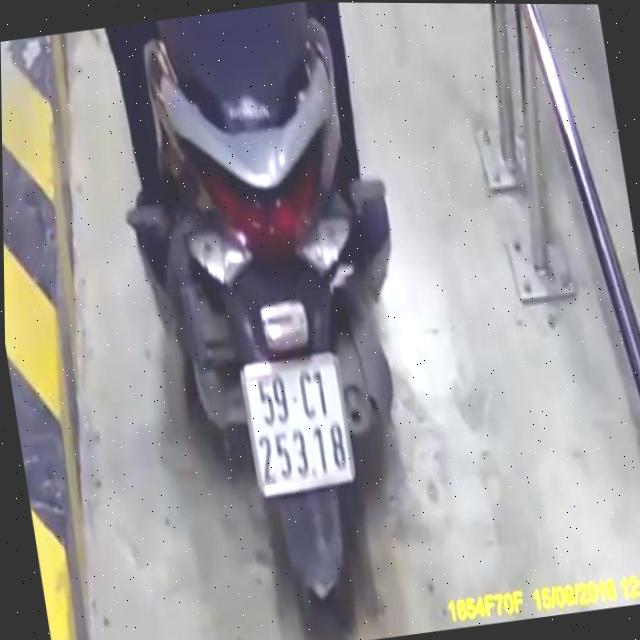motorcycle: (102, 6, 459, 640)
plate: (229, 343, 365, 503)
